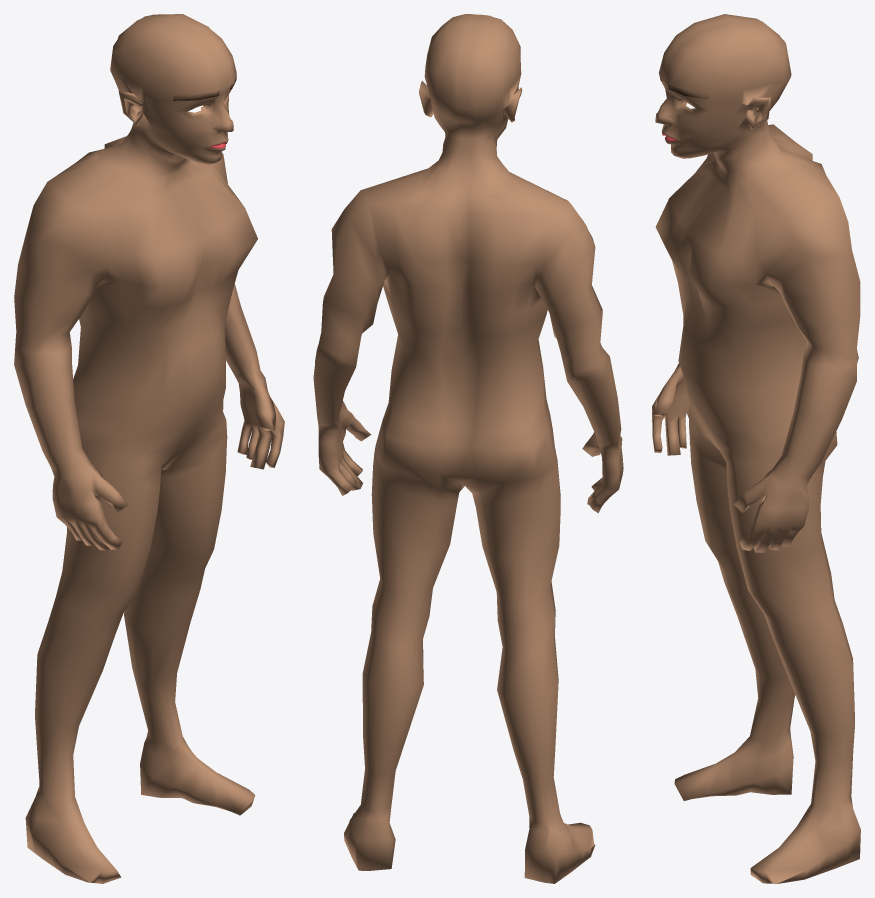
File: boneco7.glb
3 views of the same model, side by side, from view 1: azimuth 30°, elevation 25°; view 2: azimuth 150°, elevation 25°; view 3: azimuth 270°, elevation 25° (orthographic).
Parts seen in each view (by area): view 1: Plane.008; view 2: Plane.008; view 3: Plane.008.
Boxes of the visible parts, <box> form: Plane.008: <box>14,14,284,883</box>; Plane.008: <box>313,14,623,883</box>; Plane.008: <box>652,14,860,883</box>.
Bounding box in the file's own units: 1.21 × 3.47 × 0.8058.
